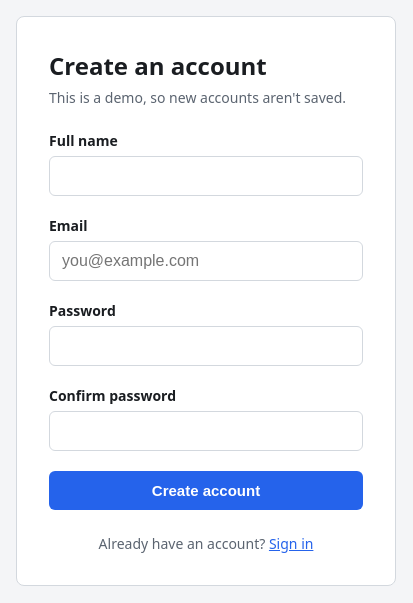
Scenario: SignUpPage › confirms success without creating an account
The image size is (413, 603).
In the field labelled "Full name": x=206, y=176 [49,156,363,196], type "Riley Chen"
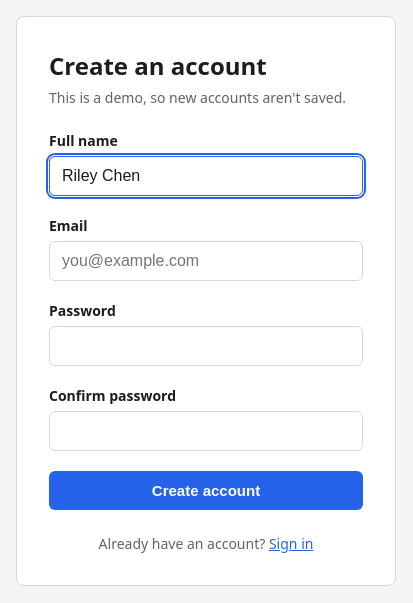
In the field labelled "Email": x=206, y=261 [49,241,363,281], type "riley@example.com"
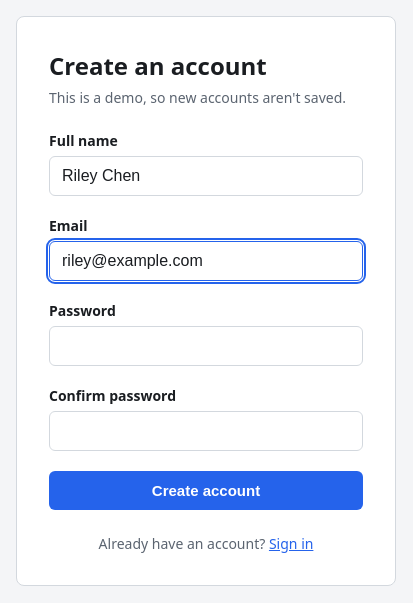
In the password field labelled "Password": x=206, y=346 [49,326,363,366], type "password1"
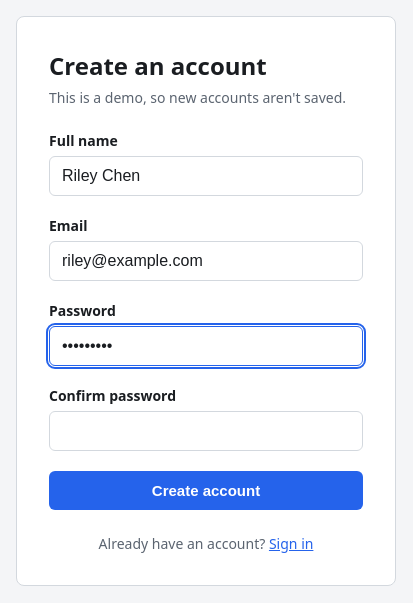
In the password field labelled "Confirm password": x=206, y=431 [49,411,363,451], type "password1"
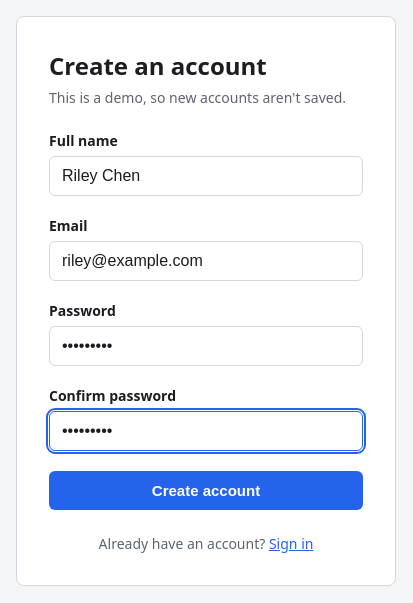
Click the button "Create account": x=206, y=490 [49,471,363,510]
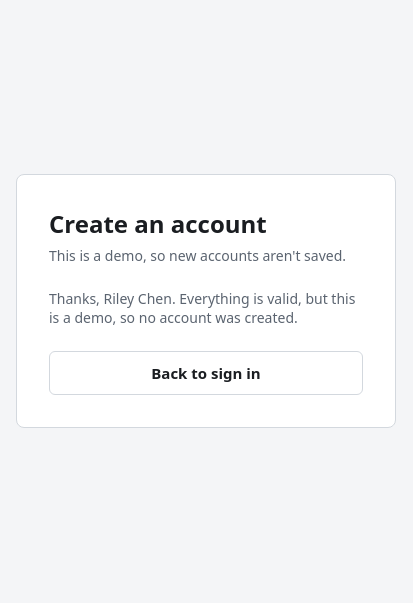
expect the text "no account was created" is shown: met, box [49,289,355,327]
expect the button "Create account" is gone: met
